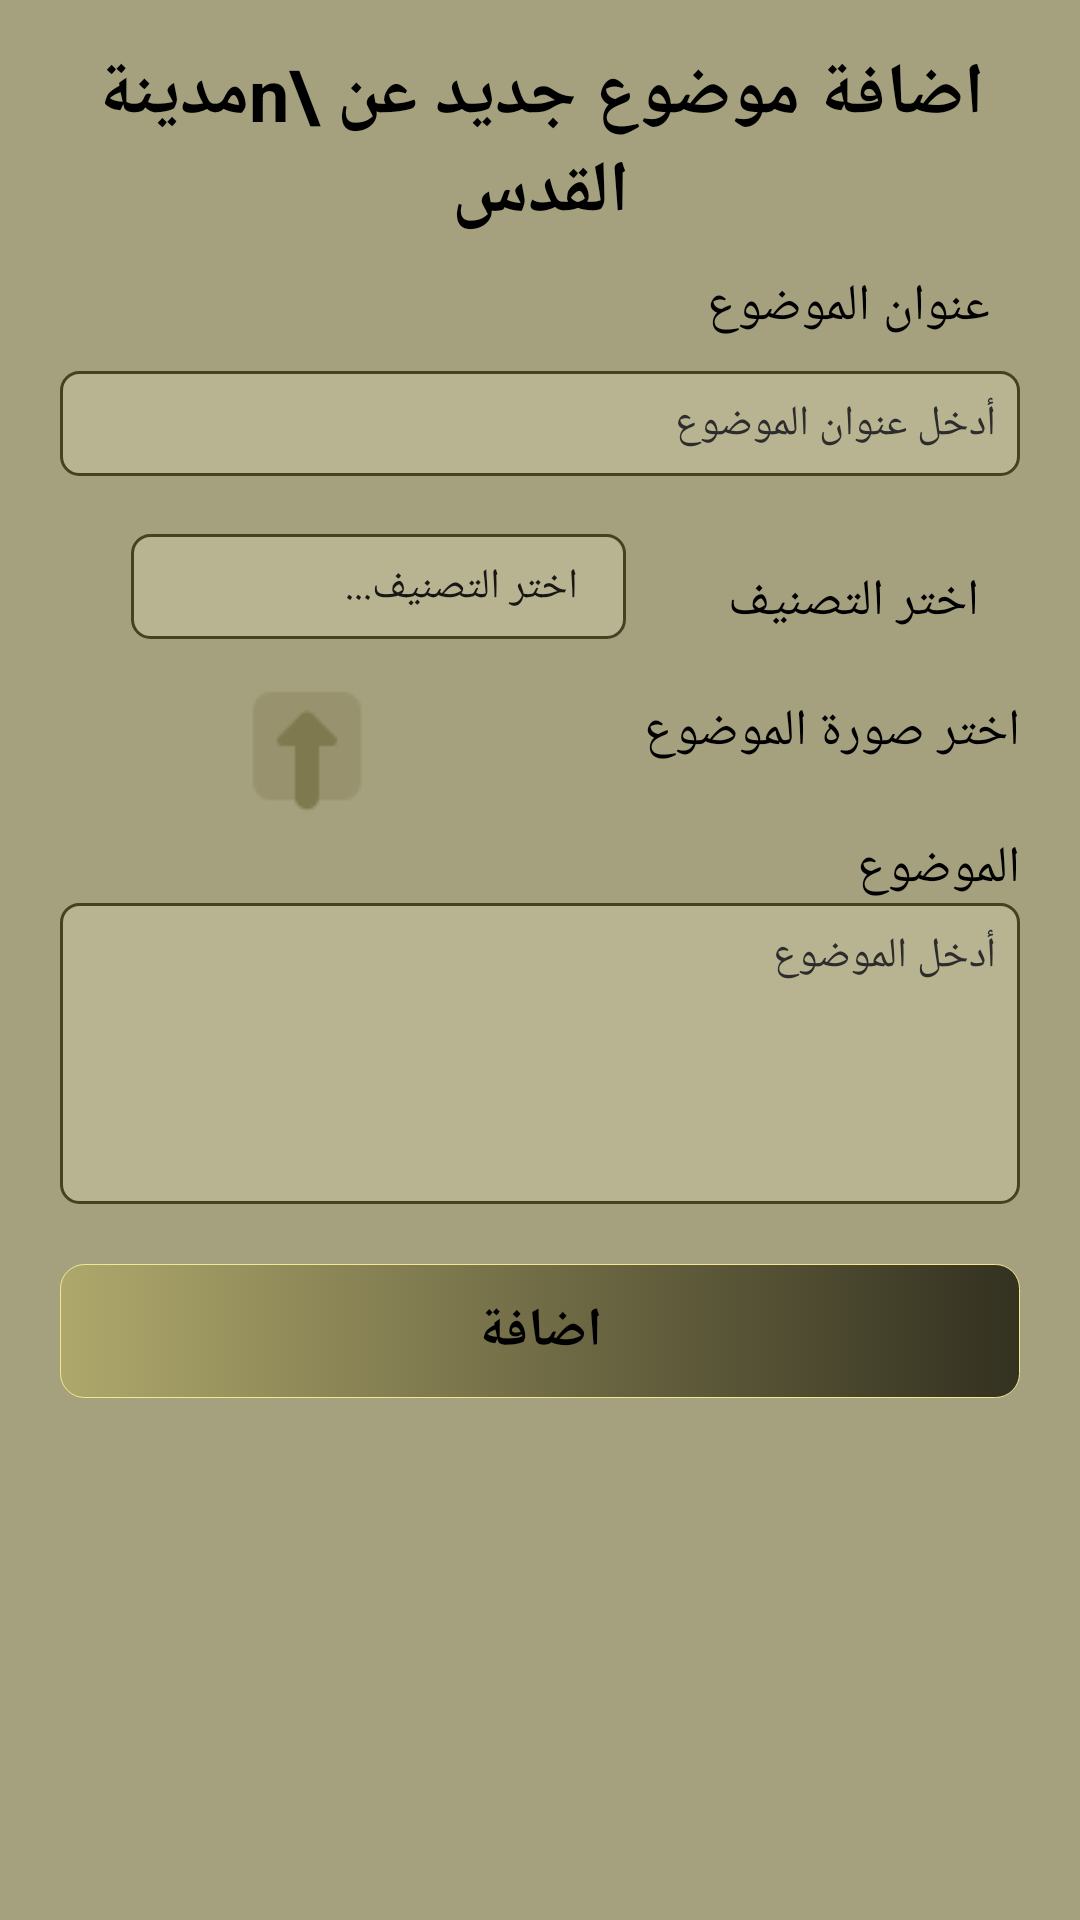

Where to tap for icons on this 1080w x 1920h app screen, as (x=x, y=y):
upload: (x=307, y=751)
